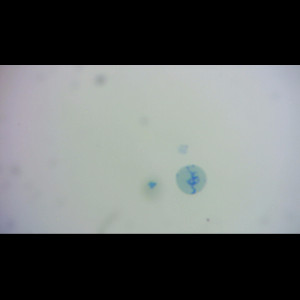aggregate reticulocyte: (174, 163, 209, 196)
